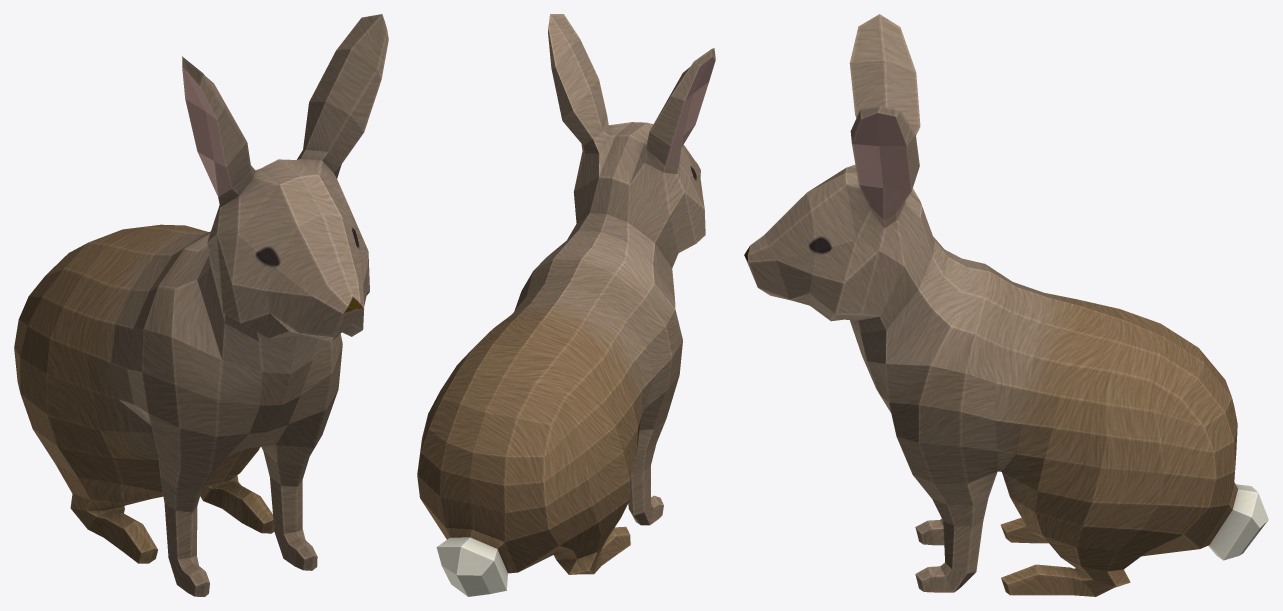
The model's file is Rabbit.glb.
3 views of the same model, side by side, from view 1: azimuth 30°, elevation 25°; view 2: azimuth 150°, elevation 25°; view 3: azimuth 270°, elevation 25° (orthographic). The views are drawn at different scales.
Parts seen in each view (by area): view 1: Cottontails_mesh; view 2: Cottontails_mesh; view 3: Cottontails_mesh.
Boxes of the visible parts, x1=… form: Cottontails_mesh: x1=14, y1=14, x2=388, y2=596; Cottontails_mesh: x1=417, y1=14, x2=715, y2=596; Cottontails_mesh: x1=744, y1=14, x2=1268, y2=596.
Size of the model in its own units: 3.23 by 7.63 by 7.13.
Materials: 1 (1 with a texture image).
